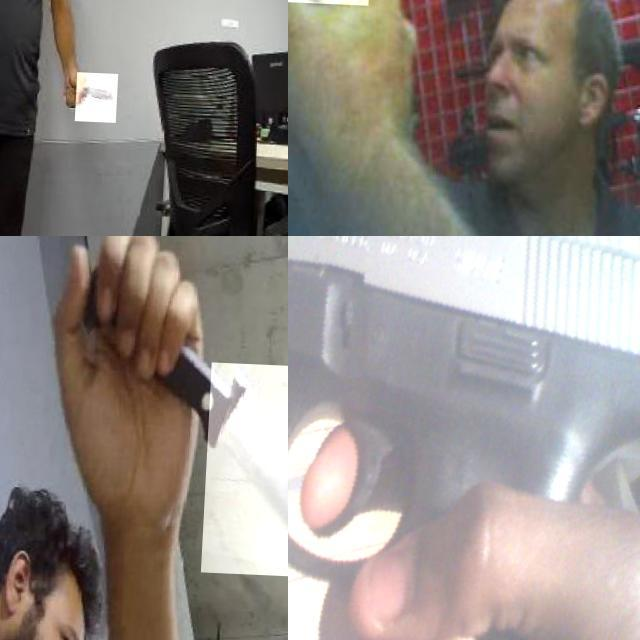-: (206, 359, 288, 575), (80, 70, 122, 120)
gun-knife-thesis - v11 Yolov5 augmented: (288, 236, 640, 640), (288, 0, 378, 72)
